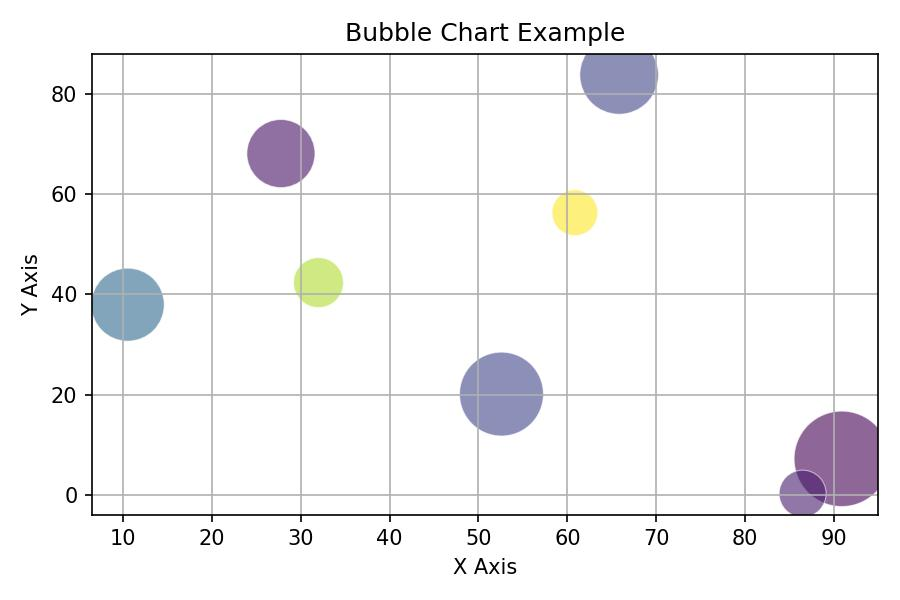axis: (83, 508, 882, 553), (50, 43, 103, 540)
circle: (795, 415, 883, 502), (459, 353, 546, 434), (94, 268, 164, 340), (580, 54, 659, 115), (246, 119, 314, 184), (295, 258, 344, 306), (549, 188, 599, 235), (779, 471, 827, 510)
